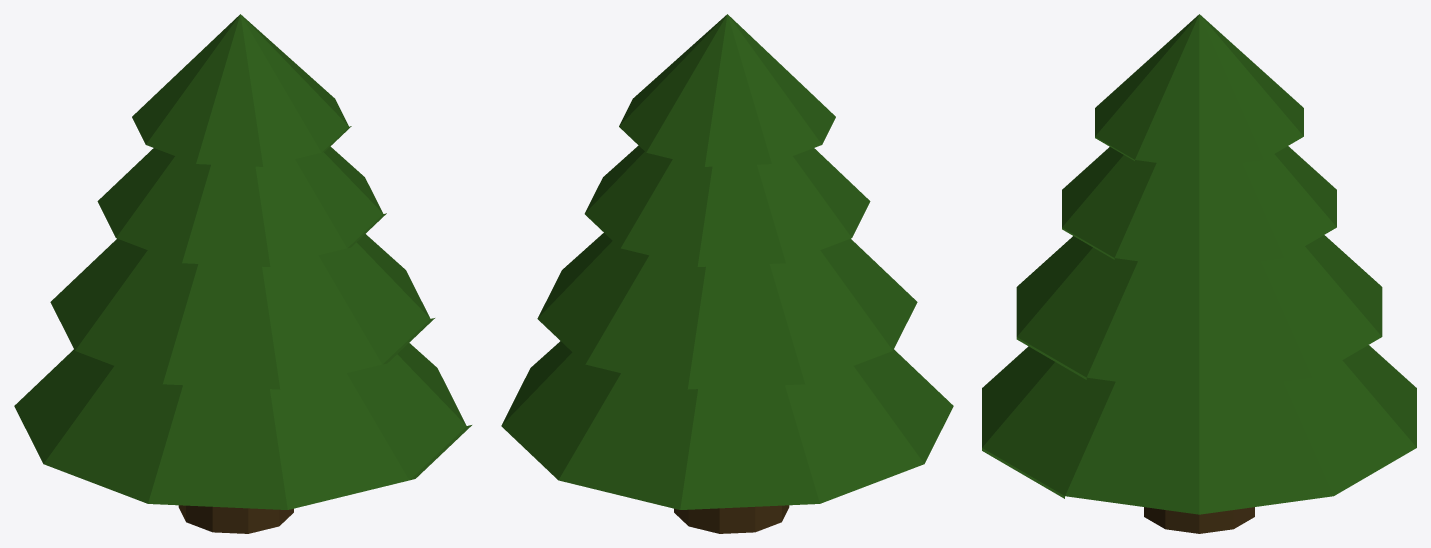
Rendered from Arbol_1.fbx.
The picture shows the model from 3 angles, left to right: view 1: azimuth 30°, elevation 25°; view 2: azimuth 150°, elevation 25°; view 3: azimuth 270°, elevation 25°; orthographic projection.
Parts seen in each view (by area): view 1: arbol_1; view 2: arbol_1; view 3: arbol_1.
Part boxes in pixels (<box>): arbol_1: <box>14,14,471,533</box>; arbol_1: <box>501,14,953,533</box>; arbol_1: <box>982,14,1416,533</box>.
Bounding box in the file's own units: 335 × 402 × 318.
